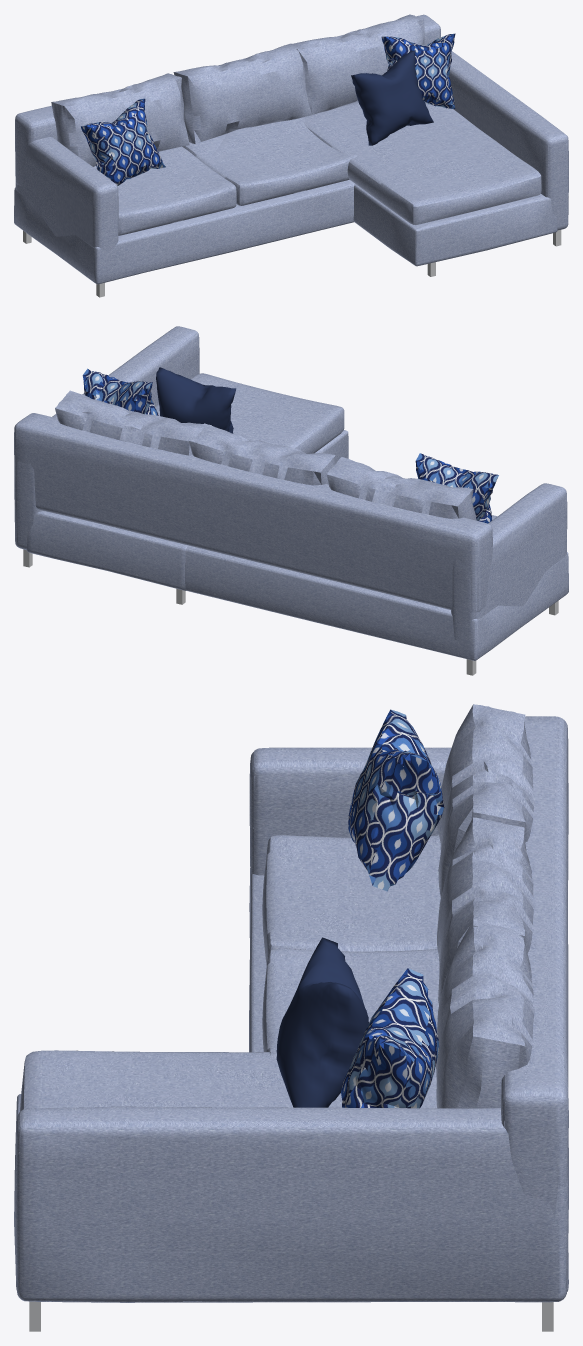
Rendered from hotel-sectional-mobile.glb.
3 views of the same model, one above another, from view 1: azimuth 30°, elevation 25°; view 2: azimuth 150°, elevation 25°; view 3: azimuth 270°, elevation 25° (orthographic). The views are drawn at different scales.
Visible parts, largest first — view 1: heather_grey, pillow_jacquard, pillow_navy2, brushed_metal; view 2: heather_grey, pillow_jacquard, pillow_navy2, brushed_metal; view 3: heather_grey, pillow_jacquard, pillow_navy2.
Part boxes in pixels (x1,y1,x2,y2): heather_grey: (14, 14, 568, 284); pillow_jacquard: (81, 33, 455, 185); pillow_navy2: (351, 50, 433, 145); brushed_metal: (23, 230, 561, 297); heather_grey: (14, 326, 568, 660); pillow_jacquard: (82, 368, 498, 523); pillow_navy2: (156, 367, 236, 433); brushed_metal: (23, 549, 558, 675); heather_grey: (14, 704, 568, 1302); pillow_jacquard: (341, 709, 444, 1108); pillow_navy2: (276, 937, 368, 1107).
Bounding box in the file's own units: 2.71 × 0.9641 × 1.66.
4 materials, 2 textured.
